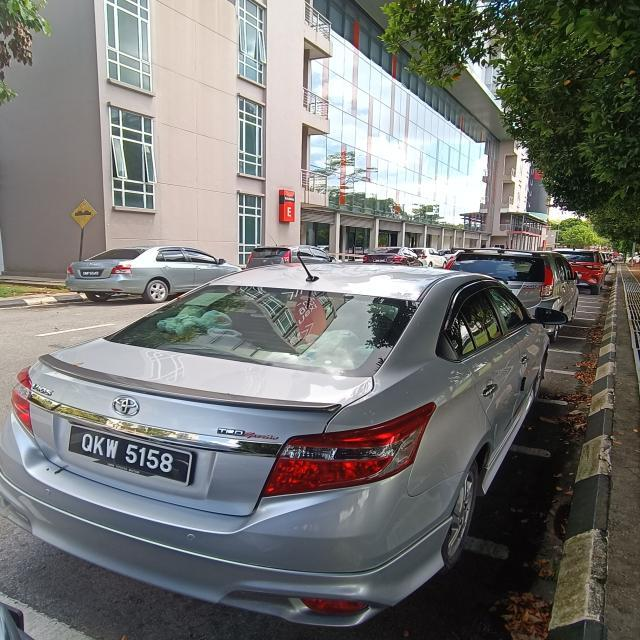ToyotaVios: (1, 253, 568, 628)
